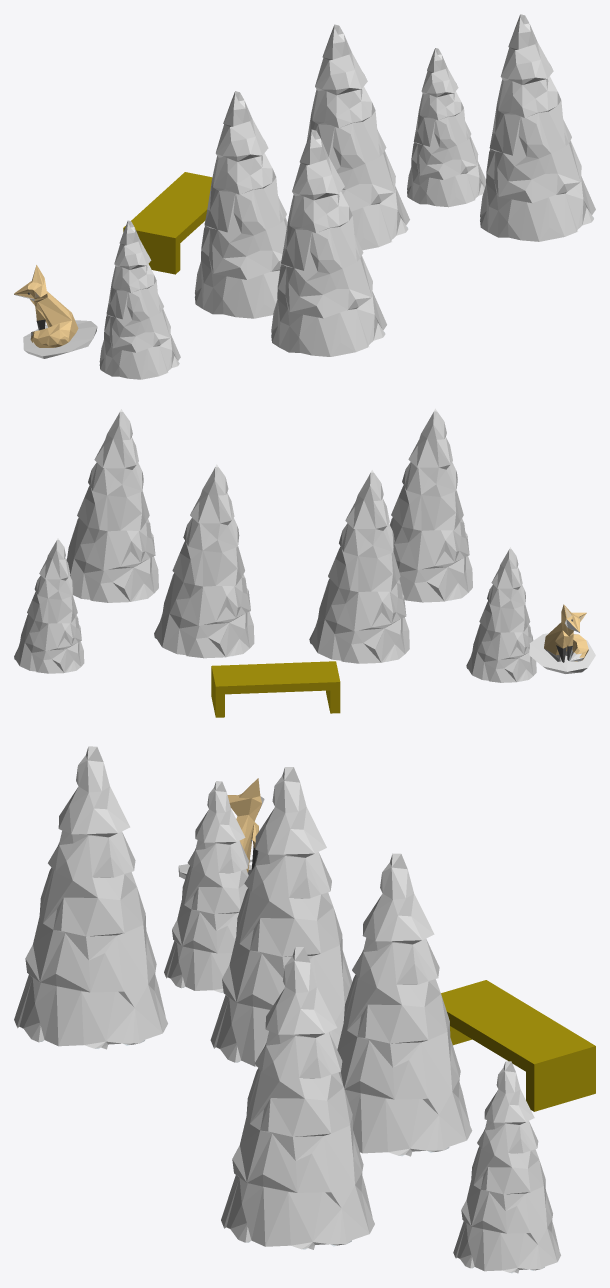
Rendered from ForestBathing_Winter.gltf.
3 views of the same model, one above another, from view 1: azimuth 30°, elevation 25°; view 2: azimuth 150°, elevation 25°; view 3: azimuth 270°, elevation 25° (orthographic). The views are drawn at different scales.
Visible parts, largest first — view 1: Mesh3 Group3 Group2 FB_W1 Model, Mesh7 Group5 Group2 FB_W1 Model, Mesh11 Group7 Group2 FB_W1 Model, Mesh13 Group8 Group2 FB_W1 Model, Mesh9 Group6 Group2 FB_W1 Model, Mesh5 Group4 Group2 FB_W1 Model, Mesh1 Group1 FB_W1 Model, Mesh17 skpG3tD3c1 FB_W1 Model, Mesh16 skpG3tD3c1 FB_W1 Model, Mesh15 skpG3tD3c1 FB_W1 Model, Mesh19 skpG3tD3c1 FB_W1 Model; view 2: Mesh11 Group7 Group2 FB_W1 Model, Mesh13 Group8 Group2 FB_W1 Model, Mesh3 Group3 Group2 FB_W1 Model, Mesh7 Group5 Group2 FB_W1 Model, Mesh5 Group4 Group2 FB_W1 Model, Mesh9 Group6 Group2 FB_W1 Model, Mesh1 Group1 FB_W1 Model, Mesh17 skpG3tD3c1 FB_W1 Model, Mesh15 skpG3tD3c1 FB_W1 Model, Mesh19 skpG3tD3c1 FB_W1 Model; view 3: Mesh3 Group3 Group2 FB_W1 Model, Mesh7 Group5 Group2 FB_W1 Model, Mesh13 Group8 Group2 FB_W1 Model, Mesh11 Group7 Group2 FB_W1 Model, Mesh5 Group4 Group2 FB_W1 Model, Mesh9 Group6 Group2 FB_W1 Model, Mesh1 Group1 FB_W1 Model, Mesh19 skpG3tD3c1 FB_W1 Model, Mesh15 skpG3tD3c1 FB_W1 Model.
Boxes of the visible parts, <box> form: Mesh3 Group3 Group2 FB_W1 Model: <box>480,14,595,241</box>; Mesh7 Group5 Group2 FB_W1 Model: <box>271,129,386,356</box>; Mesh11 Group7 Group2 FB_W1 Model: <box>194,91,287,318</box>; Mesh13 Group8 Group2 FB_W1 Model: <box>306,24,409,250</box>; Mesh9 Group6 Group2 FB_W1 Model: <box>99,220,180,379</box>; Mesh5 Group4 Group2 FB_W1 Model: <box>407,48,485,207</box>; Mesh1 Group1 FB_W1 Model: <box>123,172,212,274</box>; Mesh17 skpG3tD3c1 FB_W1 Model: <box>23,320,97,358</box>; Mesh16 skpG3tD3c1 FB_W1 Model: <box>30,313,78,347</box>; Mesh15 skpG3tD3c1 FB_W1 Model: <box>35,291,71,330</box>; Mesh19 skpG3tD3c1 FB_W1 Model: <box>14,265,47,305</box>; Mesh11 Group7 Group2 FB_W1 Model: <box>309,470,409,663</box>; Mesh13 Group8 Group2 FB_W1 Model: <box>154,464,254,658</box>; Mesh3 Group3 Group2 FB_W1 Model: <box>66,409,158,602</box>; Mesh7 Group5 Group2 FB_W1 Model: <box>390,408,472,602</box>; Mesh5 Group4 Group2 FB_W1 Model: <box>14,538,84,673</box>; Mesh9 Group6 Group2 FB_W1 Model: <box>466,547,536,682</box>; Mesh1 Group1 FB_W1 Model: <box>211,661,340,717</box>; Mesh17 skpG3tD3c1 FB_W1 Model: <box>529,633,595,673</box>; Mesh15 skpG3tD3c1 FB_W1 Model: <box>544,622,573,662</box>; Mesh19 skpG3tD3c1 FB_W1 Model: <box>561,604,586,636</box>; Mesh3 Group3 Group2 FB_W1 Model: <box>221,947,374,1249</box>; Mesh7 Group5 Group2 FB_W1 Model: <box>14,746,167,1049</box>; Mesh13 Group8 Group2 FB_W1 Model: <box>337,853,472,1156</box>; Mesh11 Group7 Group2 FB_W1 Model: <box>210,767,352,1066</box>; Mesh5 Group4 Group2 FB_W1 Model: <box>453,1061,560,1273</box>; Mesh9 Group6 Group2 FB_W1 Model: <box>164,781,248,992</box>; Mesh1 Group1 FB_W1 Model: <box>441,980,595,1111</box>; Mesh19 skpG3tD3c1 FB_W1 Model: <box>227,778,264,821</box>; Mesh15 skpG3tD3c1 FB_W1 Model: <box>236,814,258,875</box>.
Size of the model in its own units: 3238 by 1312 by 2125.
